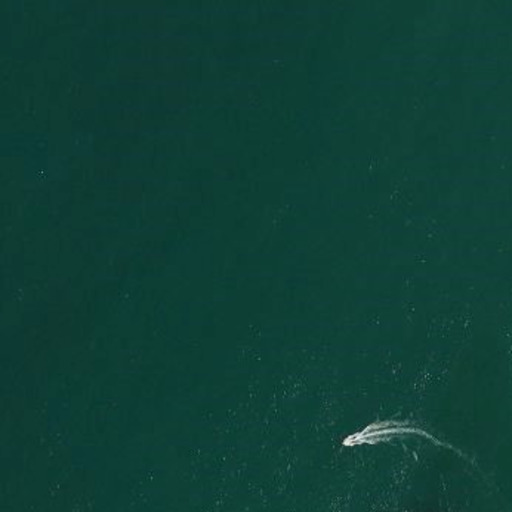ship: (339, 430, 371, 449)
